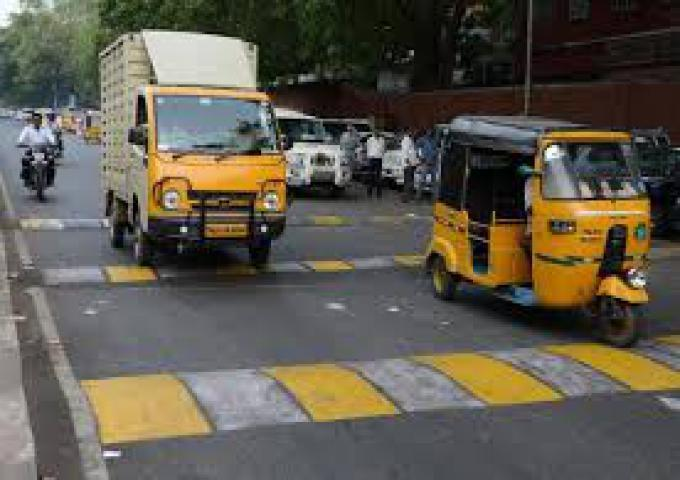speedbreaker: (77, 338, 678, 443), (33, 252, 406, 282), (298, 203, 430, 232), (17, 214, 112, 230)
